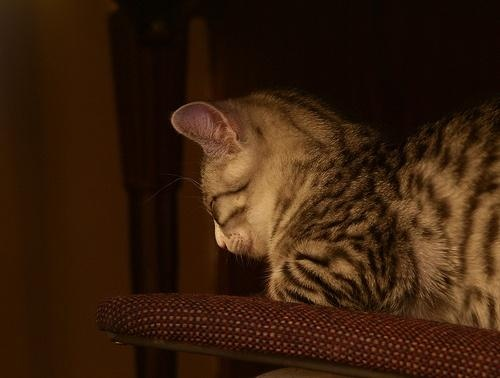cat: (174, 85, 500, 333)
